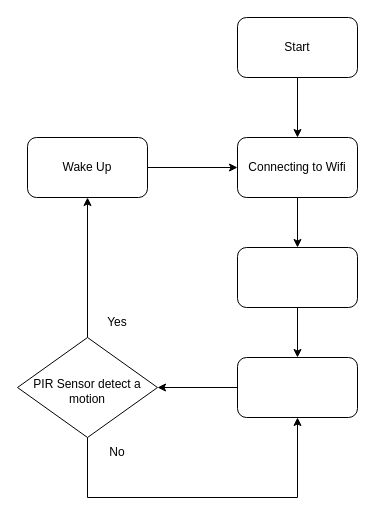
Image size: 375x523. Some labels were removed from this diagram. The centre of each missing label's shape, as x and y in pixels:
"Deep Sleep" belongs at [297,387].
"Send Photo to Telegram" belongs at [297,277].
